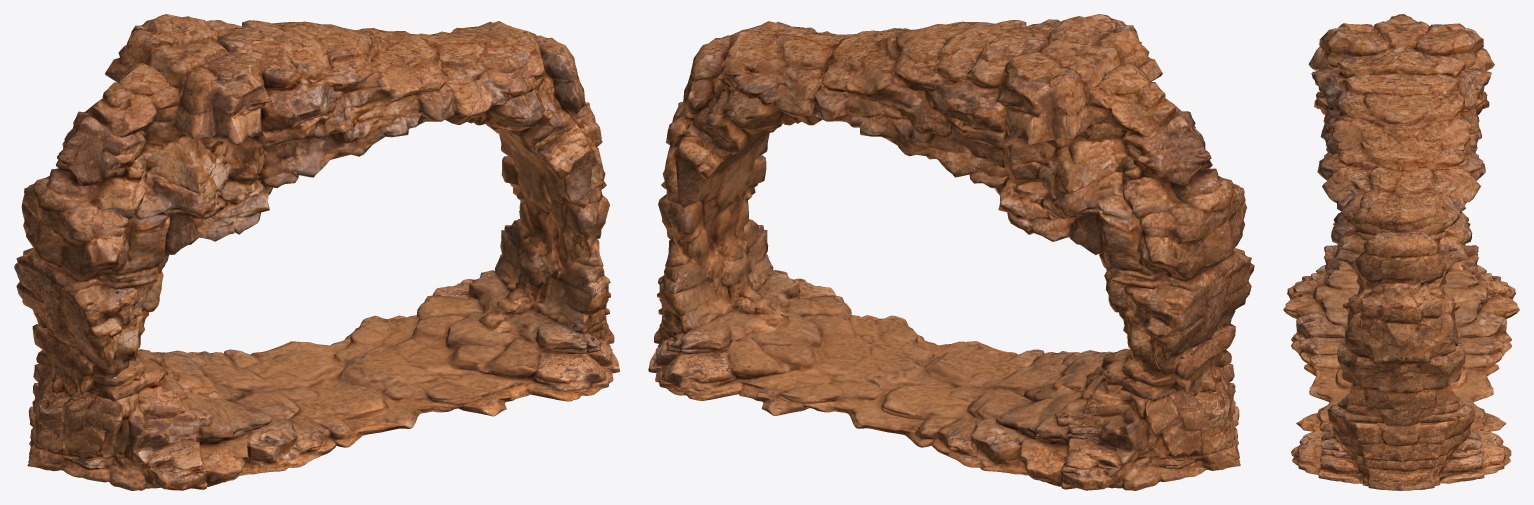
The model's file is arch.glb.
The picture shows the model from 3 angles, left to right: view 1: azimuth 30°, elevation 25°; view 2: azimuth 150°, elevation 25°; view 3: azimuth 270°, elevation 25°; orthographic projection. The views are drawn at different scales.
Visible parts, largest first — view 1: arch; view 2: arch; view 3: arch.
Part boxes in pixels (bbox=[...]): arch: bbox=[14, 14, 619, 490]; arch: bbox=[648, 14, 1254, 490]; arch: bbox=[1283, 14, 1519, 490].
Size of the model in its own units: 94.74 by 60 by 42.22.
1 material, 1 textured.
